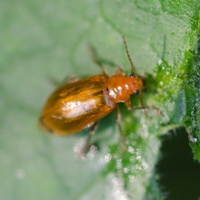insect: (39, 36, 142, 134)
